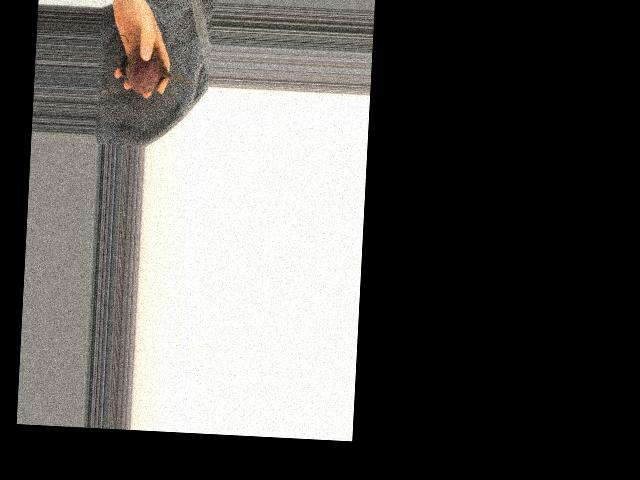beet: (120, 44, 199, 97)
